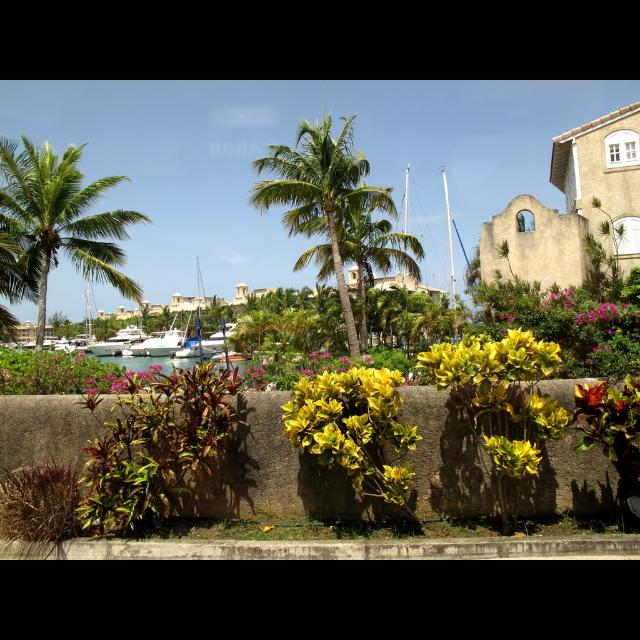Flower: (227, 352, 377, 390), (0, 340, 110, 388), (588, 328, 632, 369), (574, 304, 632, 332), (108, 361, 156, 389), (544, 288, 576, 310), (498, 310, 516, 322), (507, 296, 518, 302), (85, 388, 98, 392)
